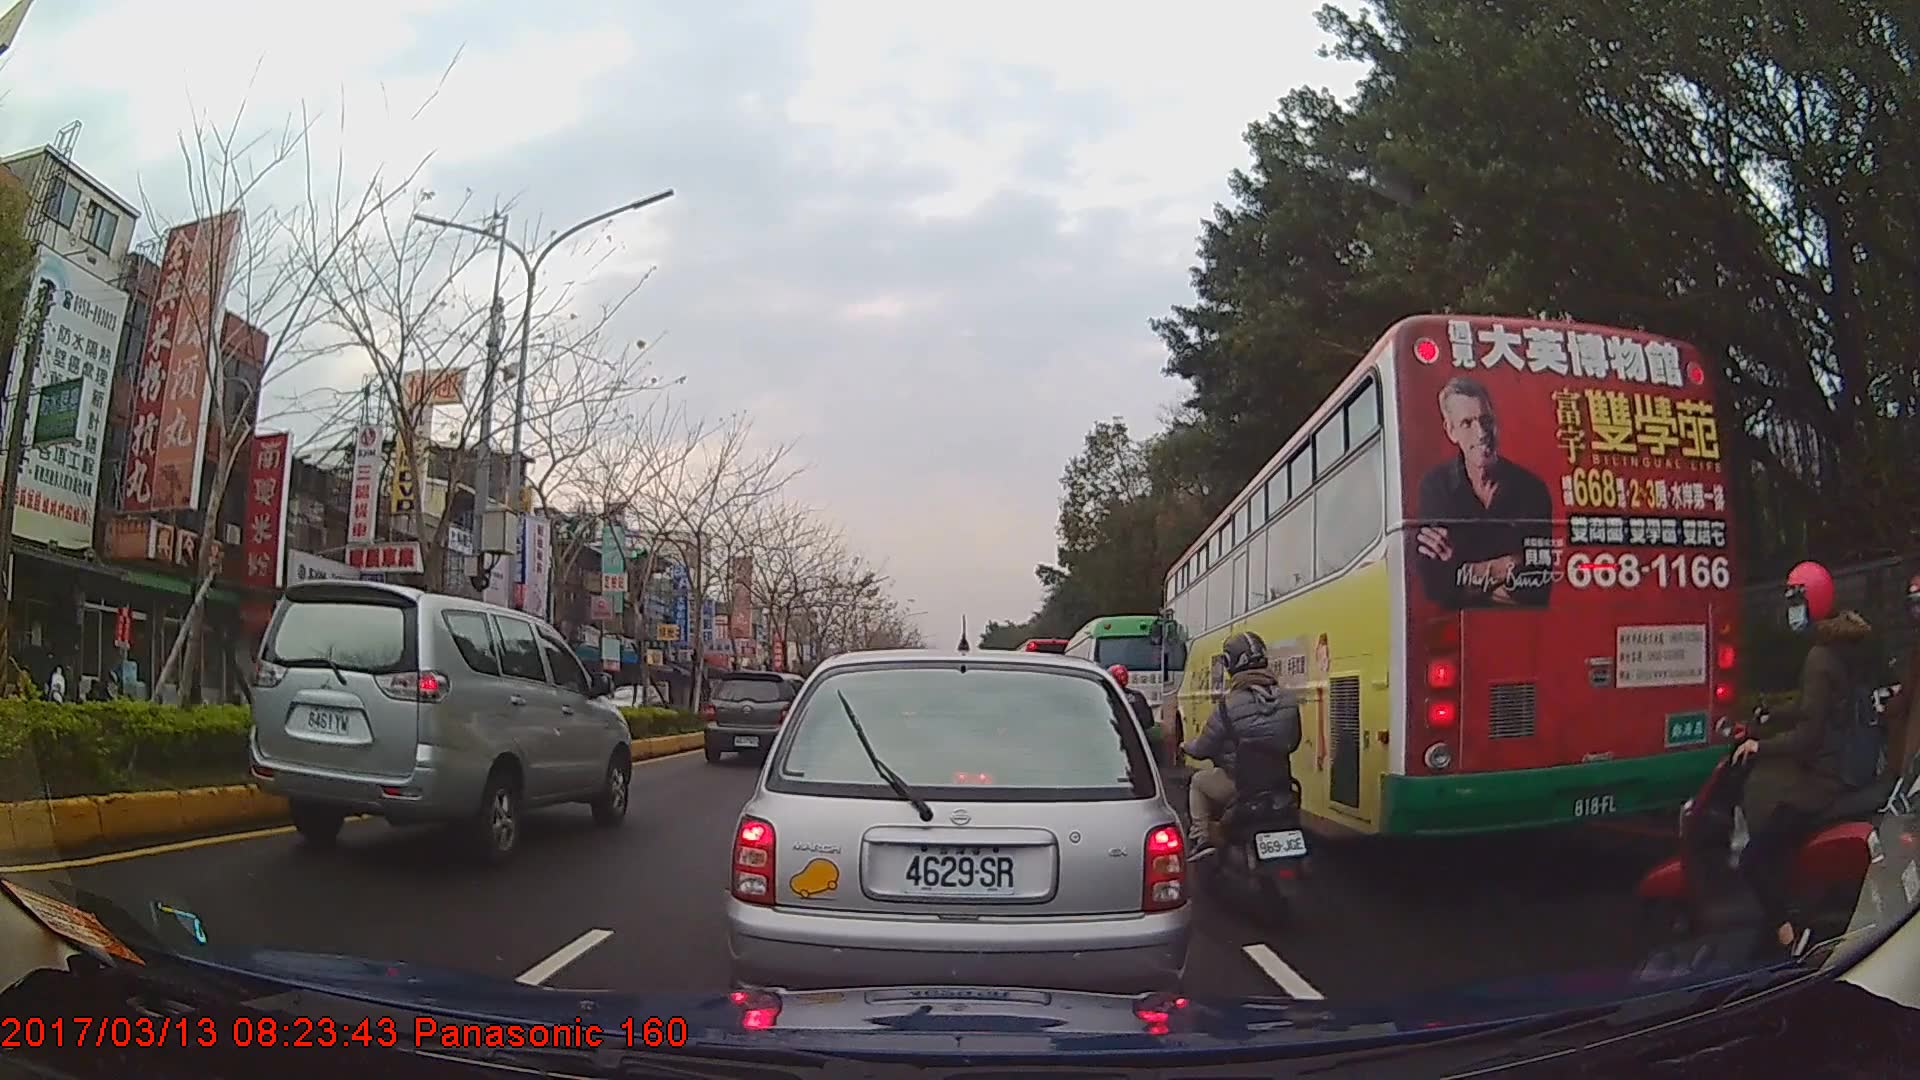rider: (1635, 563, 1906, 975), (1187, 628, 1311, 932), (1835, 572, 1920, 890), (178, 663, 208, 708)
vehicle: (1160, 309, 1742, 848), (727, 645, 1189, 1023), (247, 579, 633, 860), (1063, 613, 1192, 767), (703, 671, 809, 765), (599, 681, 662, 722)
